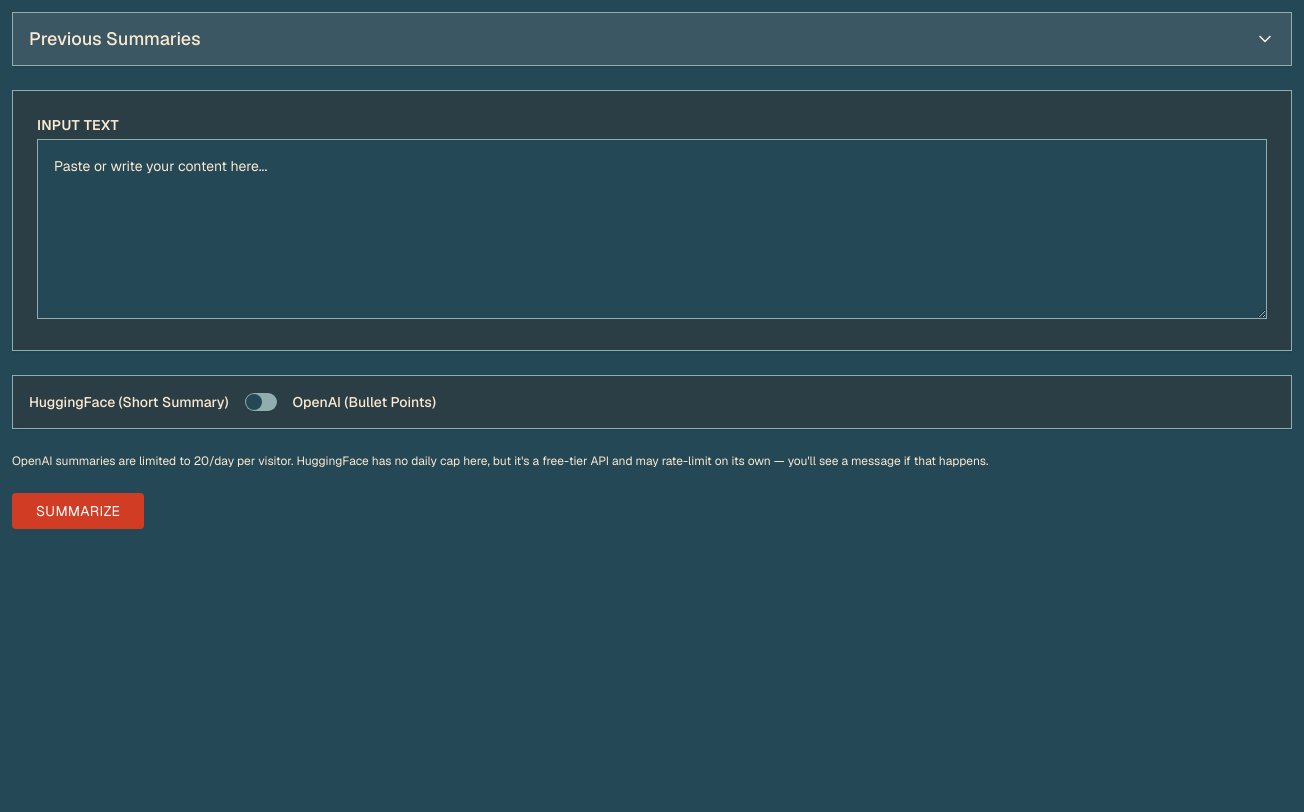
Scenario: SummaryTabs › loads a previous summary into a read-only view with no summarize/save controls
The width and height of the screenshot is (1304, 812).
Click the button "Previous Summaries": click(115, 38) x1=13 y1=13 x2=1291 y2=65
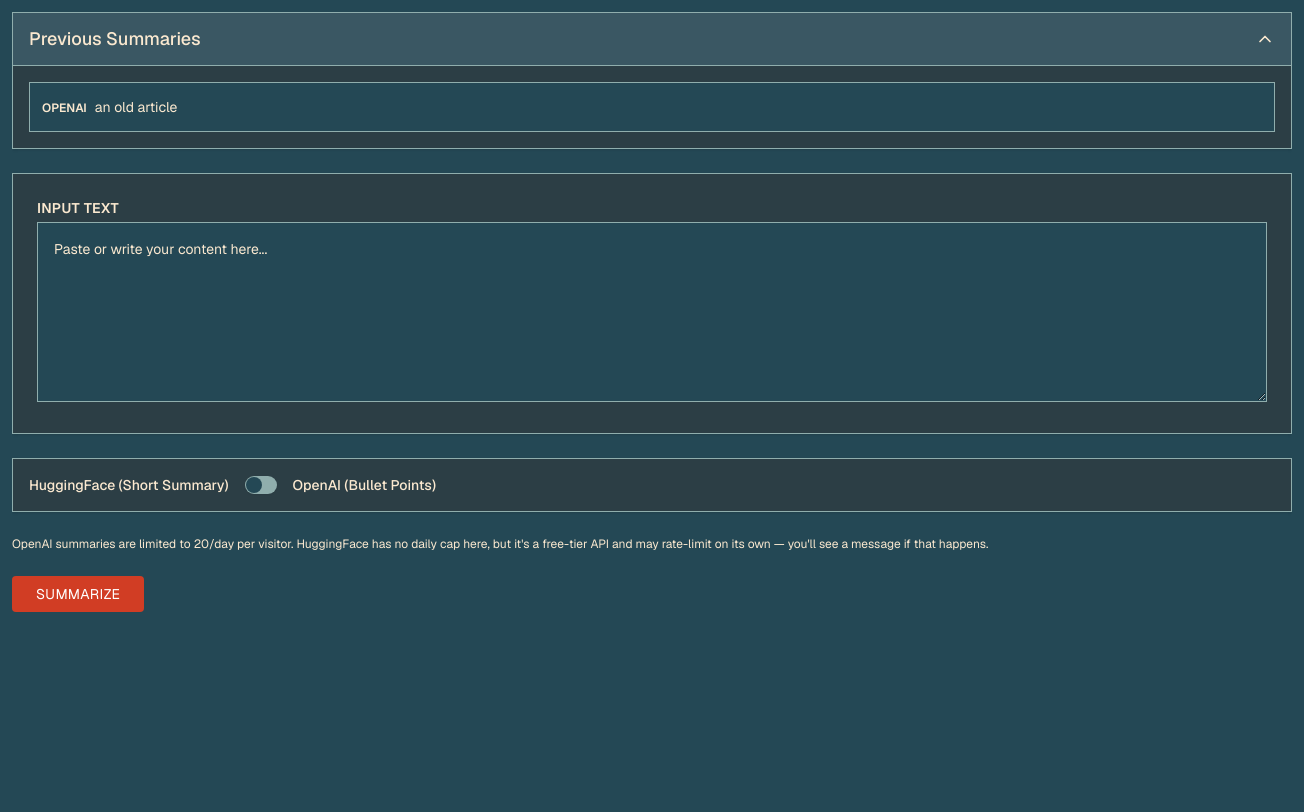
Click the text "an old article": click(136, 107) x1=95 y1=98 x2=177 y2=116
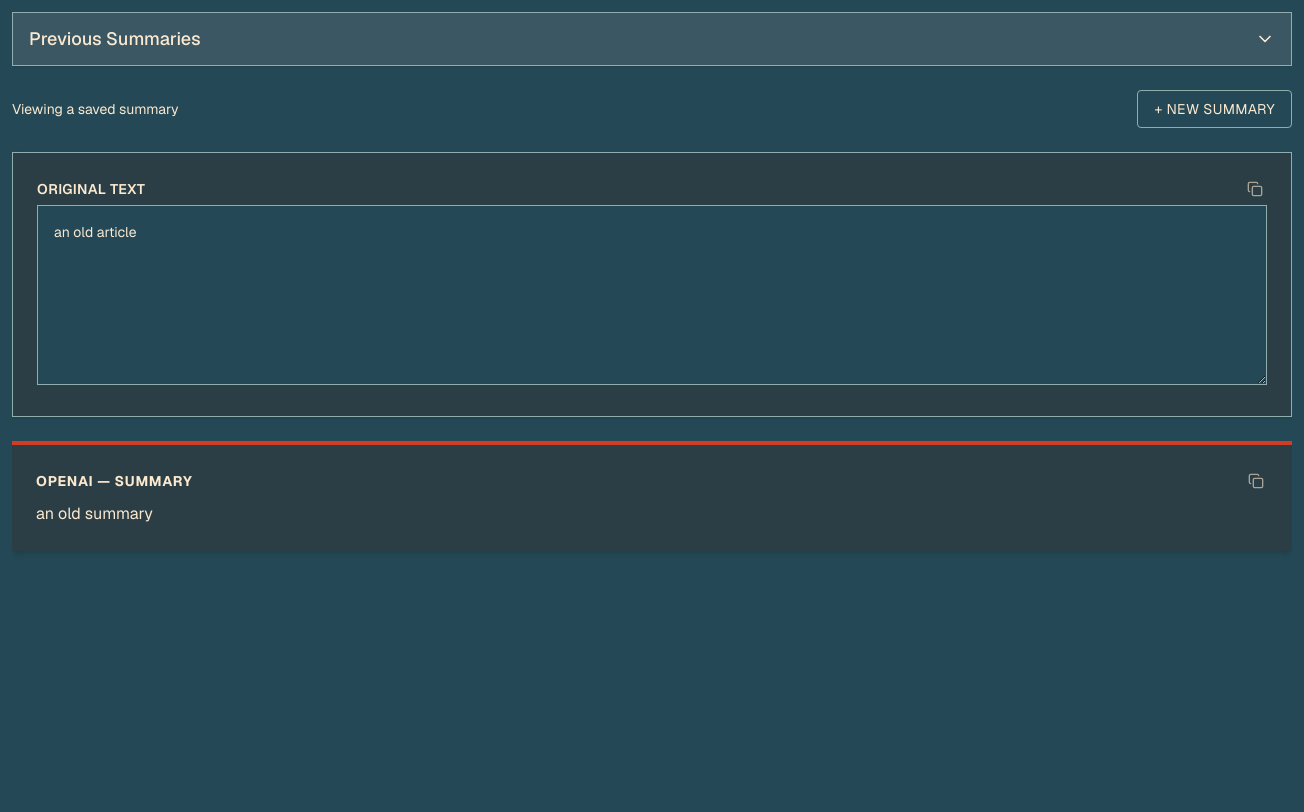
Result: the text "an old summary" is shown at x1=36 y1=503 x2=153 y2=524
Result: the button "Summarize" is gone
Result: the button named "copy summary" is shown at x1=1244 y1=469 x2=1268 y2=493
Click the button named "copy original text": click(1255, 189) x1=1243 y1=177 x2=1267 y2=201
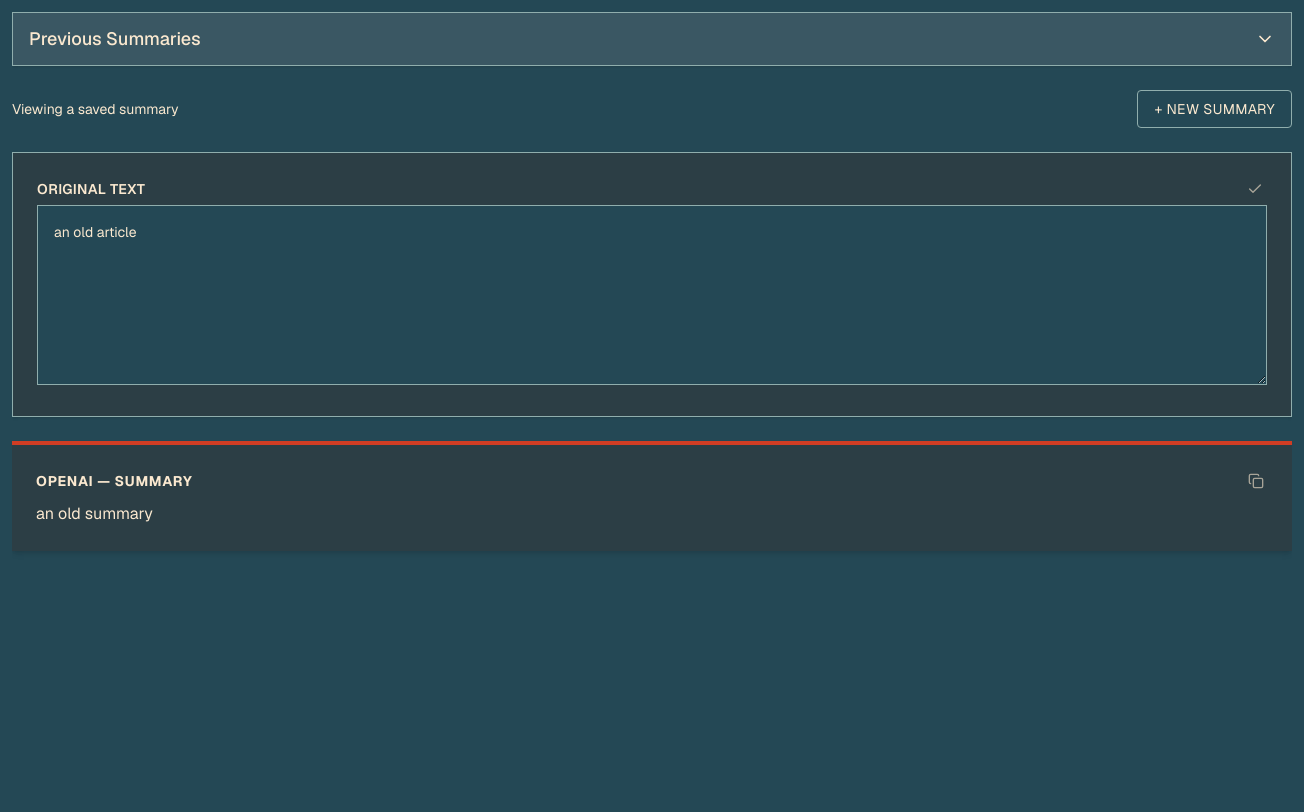
Click the button "+ New Summary": click(1215, 109) x1=1137 y1=90 x2=1292 y2=128
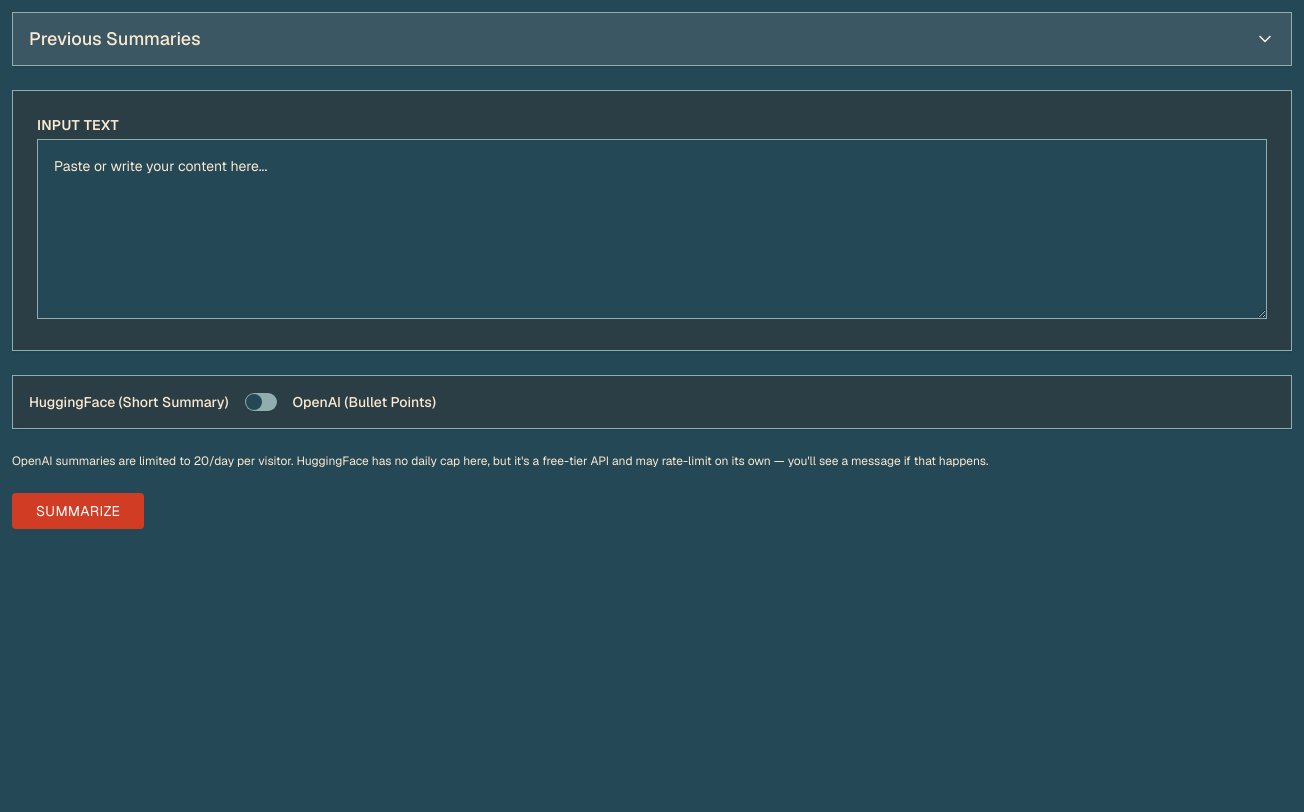
Result: the button "Summarize" is shown at x1=12 y1=493 x2=144 y2=529
